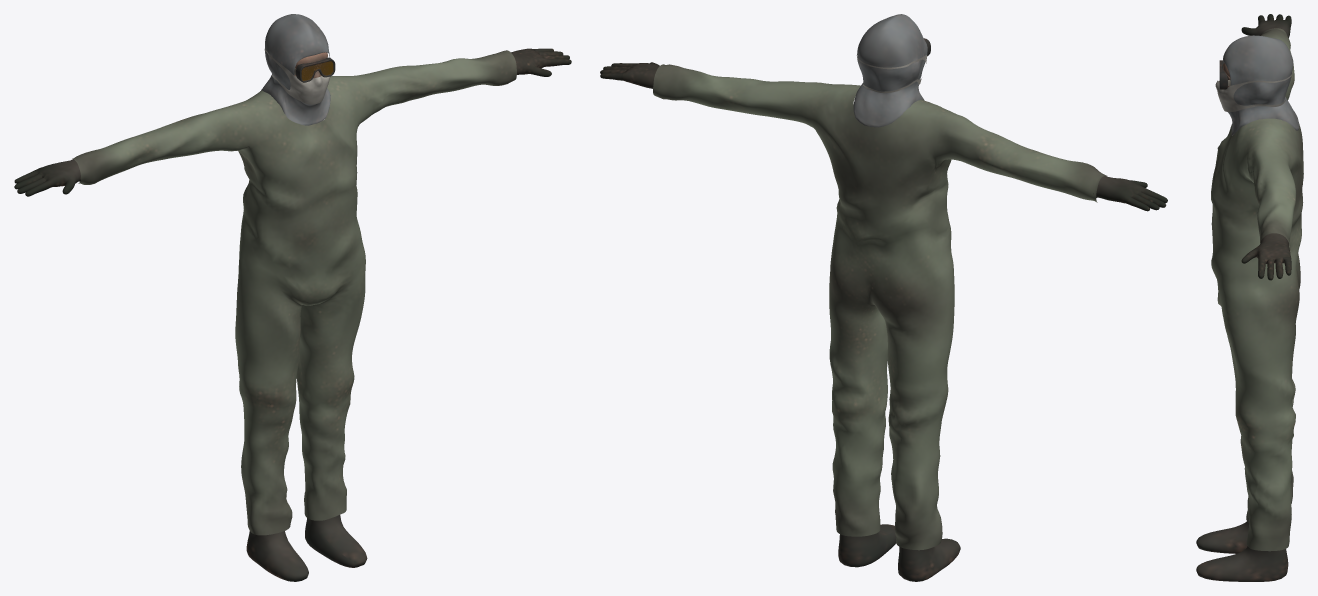
Rendered from Kvazimodo.glb.
The picture shows the model from 3 angles, left to right: view 1: azimuth 30°, elevation 25°; view 2: azimuth 150°, elevation 25°; view 3: azimuth 270°, elevation 25°; orthographic projection. The views are drawn at different scales.
Parts seen in each view (by area): view 1: Scientist; view 2: Scientist; view 3: Scientist.
Part boxes in pixels (box(x1,y1,x2,y2)): Scientist: box(14, 14, 571, 581); Scientist: box(600, 14, 1167, 581); Scientist: box(1196, 14, 1303, 581).
Bounding box in the file's own units: 1.89 × 1.76 × 0.3265.
2 materials, 2 textured.
